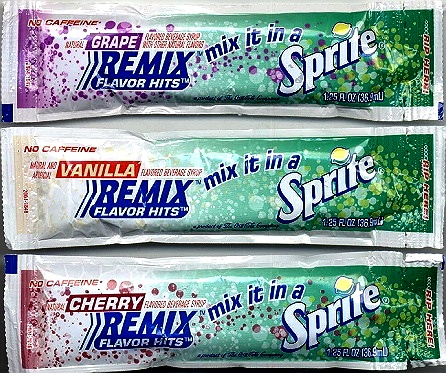sprite: (277, 25, 379, 93), (277, 151, 375, 221), (282, 280, 379, 350)
